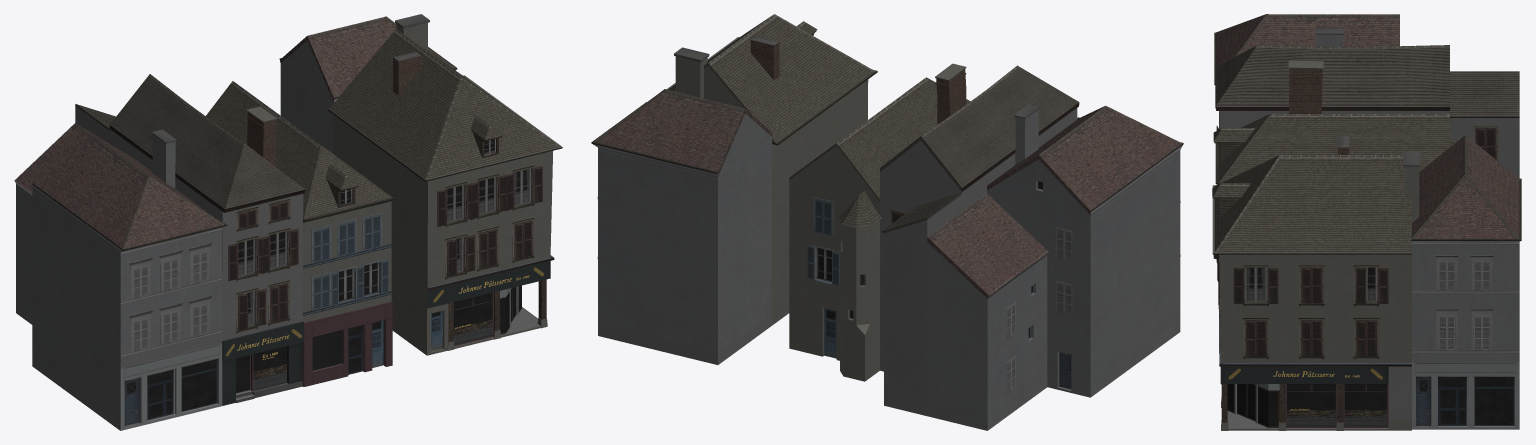
3 renders of one model, left to right at view 1: azimuth 30°, elevation 25°; view 2: azimuth 150°, elevation 25°; view 3: azimuth 270°, elevation 25°, orthographic.
Size of the model in its own units: 2584 by 1397 by 1552.
1 material, 1 textured.
